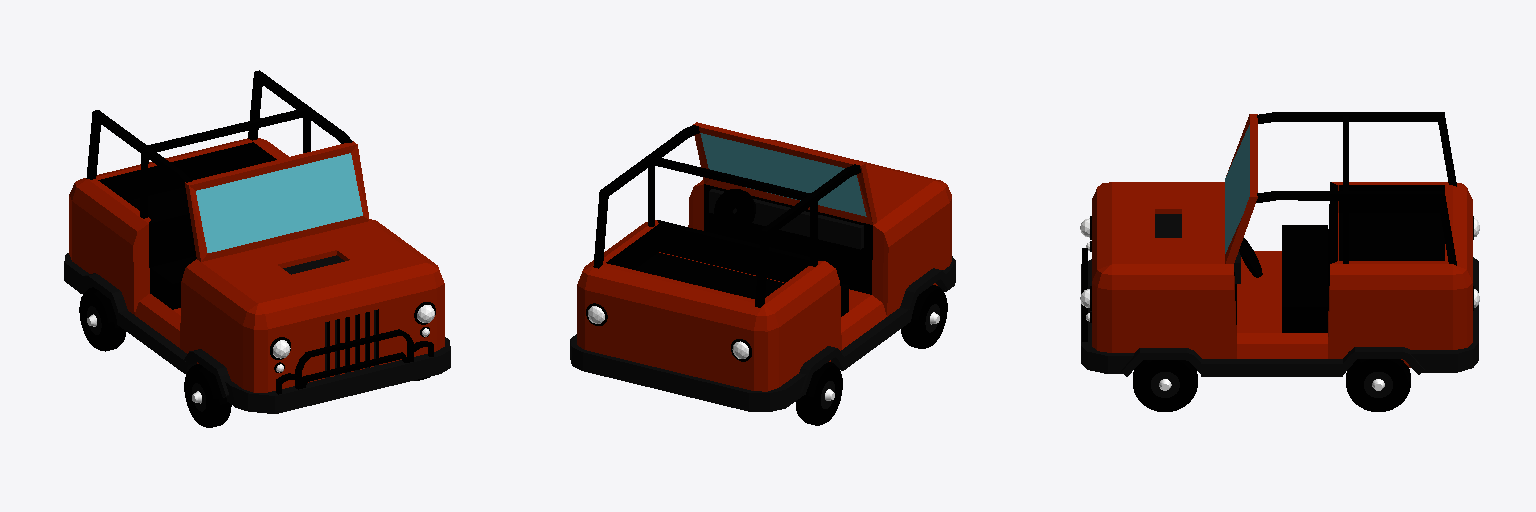
File: car.obj
3 views of the same model, side by side, from view 1: azimuth 30°, elevation 25°; view 2: azimuth 150°, elevation 25°; view 3: azimuth 270°, elevation 25° (orthographic).
Parts seen in each view (by area): view 1: CarPart002, CarPart040, CarPart056, CarPart045, CarPart058, CarPart057, CarPart053, CarPart041, CarPart008, CarPart042, CarPart039, CarPart076 (+7 smaller); view 2: CarPart002, CarPart040, CarPart058, CarPart057, CarPart043, CarPart056, CarPart041, CarPart051, CarPart039, CarPart042, CarPart053, CarPart071 (+6 smaller); view 3: CarPart040, CarPart056, CarPart002, CarPart058, CarPart057, CarPart039, CarPart001, CarPart054, CarPart066, CarPart045, CarPart061, CarPart049 (+6 smaller).
Boxes of the visible parts, x1=… form: CarPart002: x1=69, y1=138, x2=444, y2=392; CarPart040: x1=72, y1=138, x2=435, y2=388; CarPart056: x1=189, y1=145, x2=426, y2=303; CarPart045: x1=196, y1=153, x2=362, y2=252; CarPart058: x1=64, y1=253, x2=450, y2=413; CarPart057: x1=86, y1=70, x2=435, y2=394; CarPart053: x1=98, y1=142, x2=276, y2=200; CarPart041: x1=149, y1=214, x2=195, y2=267; CarPart008: x1=274, y1=323, x2=324, y2=390; CarPart042: x1=133, y1=224, x2=180, y2=348; CarPart039: x1=127, y1=187, x2=188, y2=218; CarPart076: x1=184, y1=368, x2=213, y2=425; CarPart002: x1=577, y1=139, x2=951, y2=391; CarPart040: x1=585, y1=122, x2=949, y2=386; CarPart058: x1=570, y1=189, x2=955, y2=411; CarPart057: x1=586, y1=125, x2=860, y2=361; CarPart043: x1=700, y1=133, x2=866, y2=216; CarPart056: x1=694, y1=127, x2=933, y2=224; CarPart041: x1=704, y1=184, x2=872, y2=294; CarPart051: x1=659, y1=224, x2=809, y2=282; CarPart039: x1=635, y1=252, x2=784, y2=298; CarPart042: x1=688, y1=184, x2=888, y2=350; CarPart053: x1=606, y1=224, x2=658, y2=269; CarPart071: x1=813, y1=366, x2=842, y2=423; CarPart040: x1=1112, y1=114, x2=1452, y2=367; CarPart056: x1=1112, y1=114, x2=1249, y2=263; CarPart002: x1=1092, y1=182, x2=1472, y2=358; CarPart058: x1=1081, y1=252, x2=1478, y2=376; CarPart057: x1=1082, y1=112, x2=1473, y2=341; CarPart039: x1=1339, y1=213, x2=1444, y2=260; CarPart001: x1=1282, y1=225, x2=1327, y2=306; CarPart054: x1=1237, y1=251, x2=1281, y2=332; CarPart066: x1=1349, y1=359, x2=1407, y2=411; CarPart045: x1=1225, y1=125, x2=1249, y2=253; CarPart061: x1=1136, y1=360, x2=1194, y2=411; CarPart049: x1=1339, y1=185, x2=1444, y2=212.
Size of the model in its own units: 35.23 by 30.27 by 52.51.